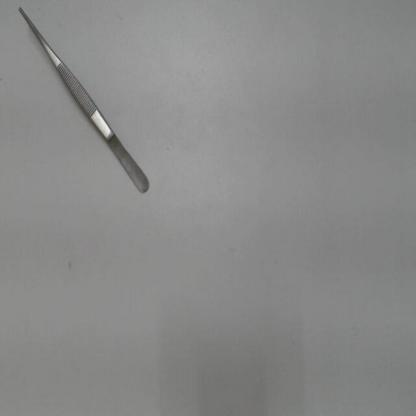Gillies Toothed Dissector: (9, 2, 161, 210)
